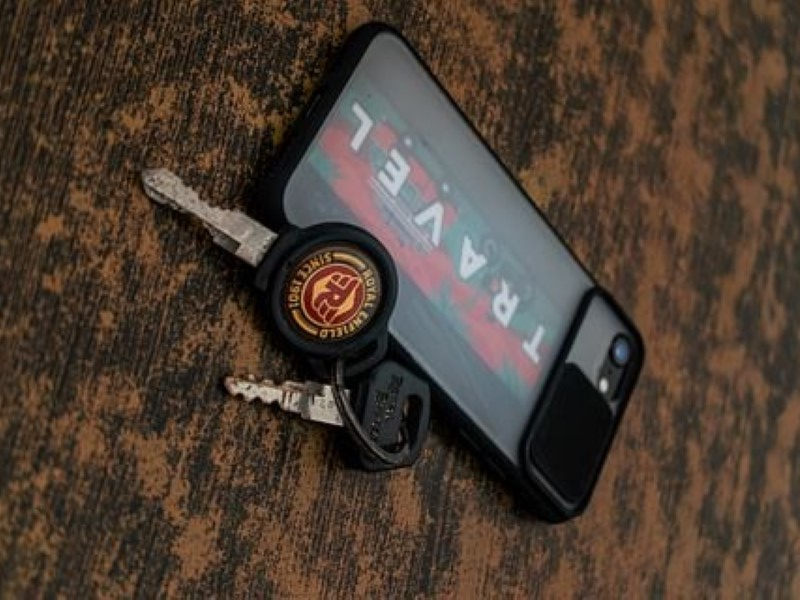key: (137, 157, 403, 367), (220, 353, 432, 473)
